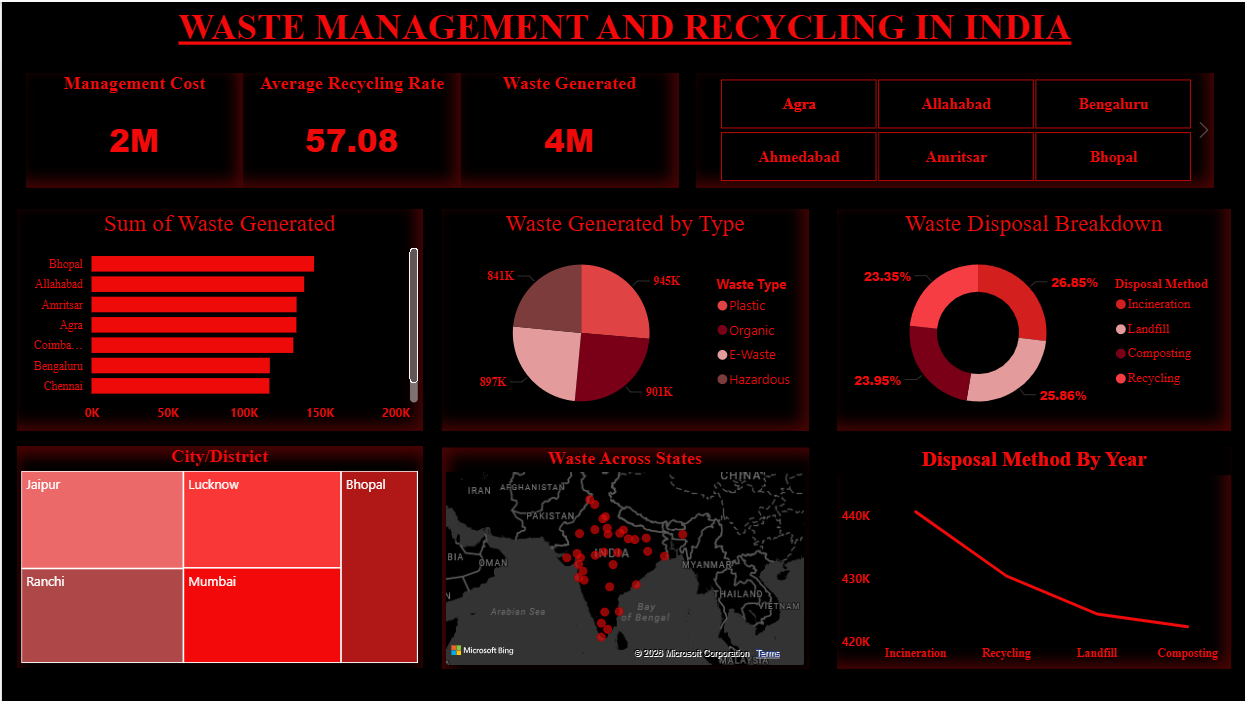

The page's visual inventory and layout, read from the dashboard file:
{"tool":"powerbi","page":{"name":"Page 1","canvas":[1280,720],"ordinal":0},"visuals":[{"type":"textbox","box":[0,0,1279.8,55.2],"z":0},{"type":"card","title":"Management Cost","fields":{"Values":["Sum(Waste_Management_and_Recycling_.Cost of Waste Management (â‚¹/Ton))"]},"box":[24.7,72.7,223.7,118],"z":1000},{"type":"card","title":"Average Recycling Rate","fields":{"Values":["Avg(Waste_Management_and_Recycling_.Recycling Rate (%))"]},"box":[248.4,72.7,223.7,118],"z":2000},{"type":"card","title":"Waste Generated","fields":{"Values":["Sum(Waste_Management_and_Recycling_.Waste Generated (Tons/Day))"]},"box":[472,72.7,223.7,118],"z":3000},{"type":"slicer","fields":{"Values":["Waste_Management_and_Recycling_.City/District"]},"box":[713.6,72.7,532.4,118],"z":4000},{"type":"barChart","title":"Sum of Waste Generated ","fields":{"Category":["Waste_Management_and_Recycling_.City/District"],"Y":["Sum(Waste_Management_and_Recycling_.Waste Generated (Tons/Day))"]},"box":[15.1,212.7,417.2,227.8],"z":5000},{"type":"pieChart","title":"Waste Generated by  Type","fields":{"Category":["Waste_Management_and_Recycling_.Waste Type"],"Y":["Sum(Waste_Management_and_Recycling_.Waste Generated (Tons/Day))"]},"box":[451.5,212.7,377.4,227.8],"z":6000},{"type":"donutChart","title":"Waste Disposal Breakdown","fields":{"Category":["Waste_Management_and_Recycling_.Disposal Method"],"Y":["Sum(Waste_Management_and_Recycling_.Waste Generated (Tons/Day))"]},"box":[857.6,212.7,404.8,227.8],"z":7000},{"type":"treemap","title":"City/District","fields":{"Group":["Waste_Management_and_Recycling_.City/District"],"Values":["Sum(Waste_Management_and_Recycling_.Waste Generated (Tons/Day))"]},"box":[15,456.5,417,228],"z":8000},{"type":"map","title":"Waste Across States","fields":{"Category":["Waste_Management_and_Recycling_.City/District"]},"box":[451,457,377,228],"z":9000},{"type":"lineChart","title":"Disposal Method By Year","fields":{"Y":["Sum(Waste_Management_and_Recycling_.Year)"],"Category":["Waste_Management_and_Recycling_.Disposal Method"]},"box":[858,457,405,228],"z":10000}]}

Visuals, with their boxes in screenshot pixels (x1, y1, x2, y2), scaled from the page's 1280x720 canvas onto the 1245x701 screenshot:
textbox: bbox=[0, 0, 1244, 54]
"Management Cost" card: bbox=[24, 71, 242, 186]
"Average Recycling Rate" card: bbox=[242, 71, 459, 186]
"Waste Generated" card: bbox=[459, 71, 677, 186]
slicer - Waste_Management_and_Recycling_.City/District: bbox=[694, 71, 1212, 186]
"Sum of Waste Generated " barChart: bbox=[15, 207, 420, 429]
"Waste Generated by  Type" pieChart: bbox=[439, 207, 806, 429]
"Waste Disposal Breakdown" donutChart: bbox=[834, 207, 1228, 429]
"City/District" treemap: bbox=[15, 444, 420, 666]
"Waste Across States" map: bbox=[439, 445, 805, 667]
"Disposal Method By Year" lineChart: bbox=[835, 445, 1228, 667]
